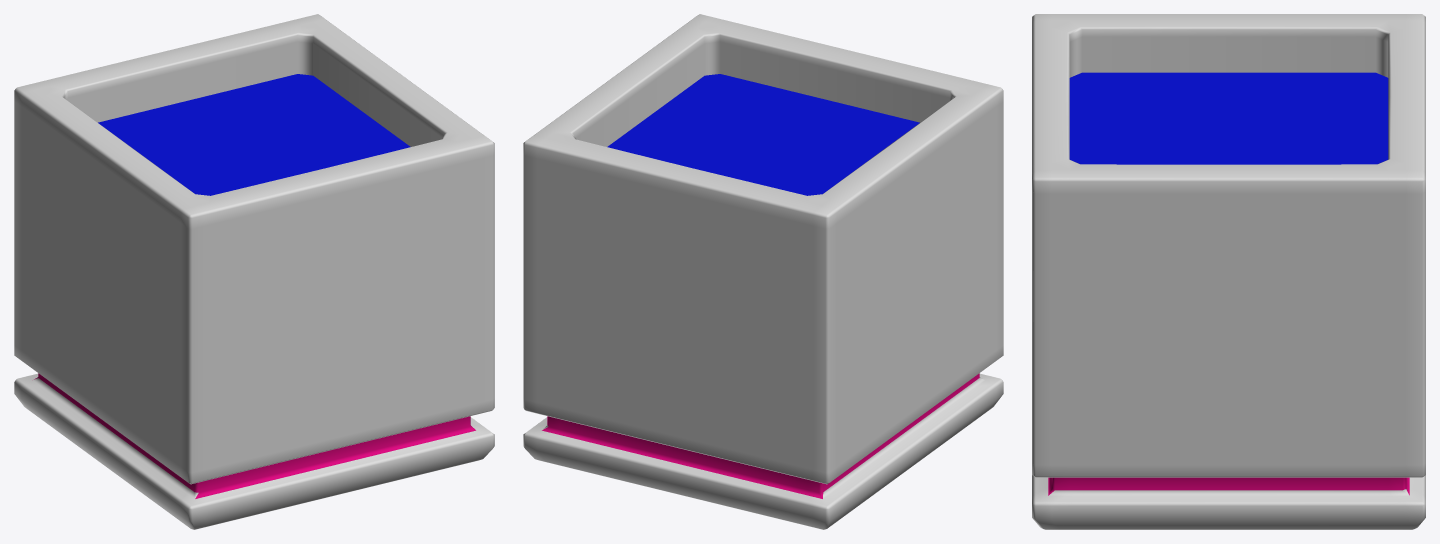
File: SmallPot.fbx
3 renders of one model, left to right at view 1: azimuth 30°, elevation 25°; view 2: azimuth 150°, elevation 25°; view 3: azimuth 270°, elevation 25°, orthographic. The views are drawn at different scales.
Visible parts, largest first — view 1: SmallPot; view 2: SmallPot; view 3: SmallPot.
Part boxes in pixels (bbox=[...]): SmallPot: bbox=[14, 14, 494, 529]; SmallPot: bbox=[523, 14, 1003, 529]; SmallPot: bbox=[1032, 14, 1425, 529].
Size of the model in its own units: 40 by 40 by 40.
